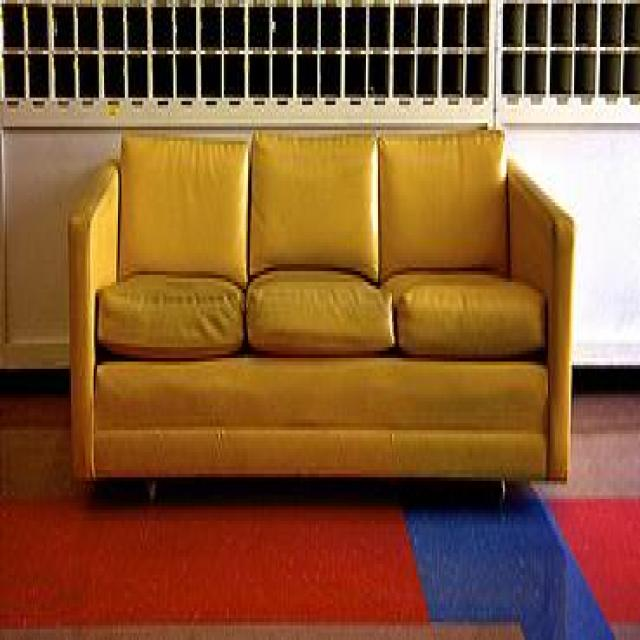sofa: (65, 128, 573, 511)
